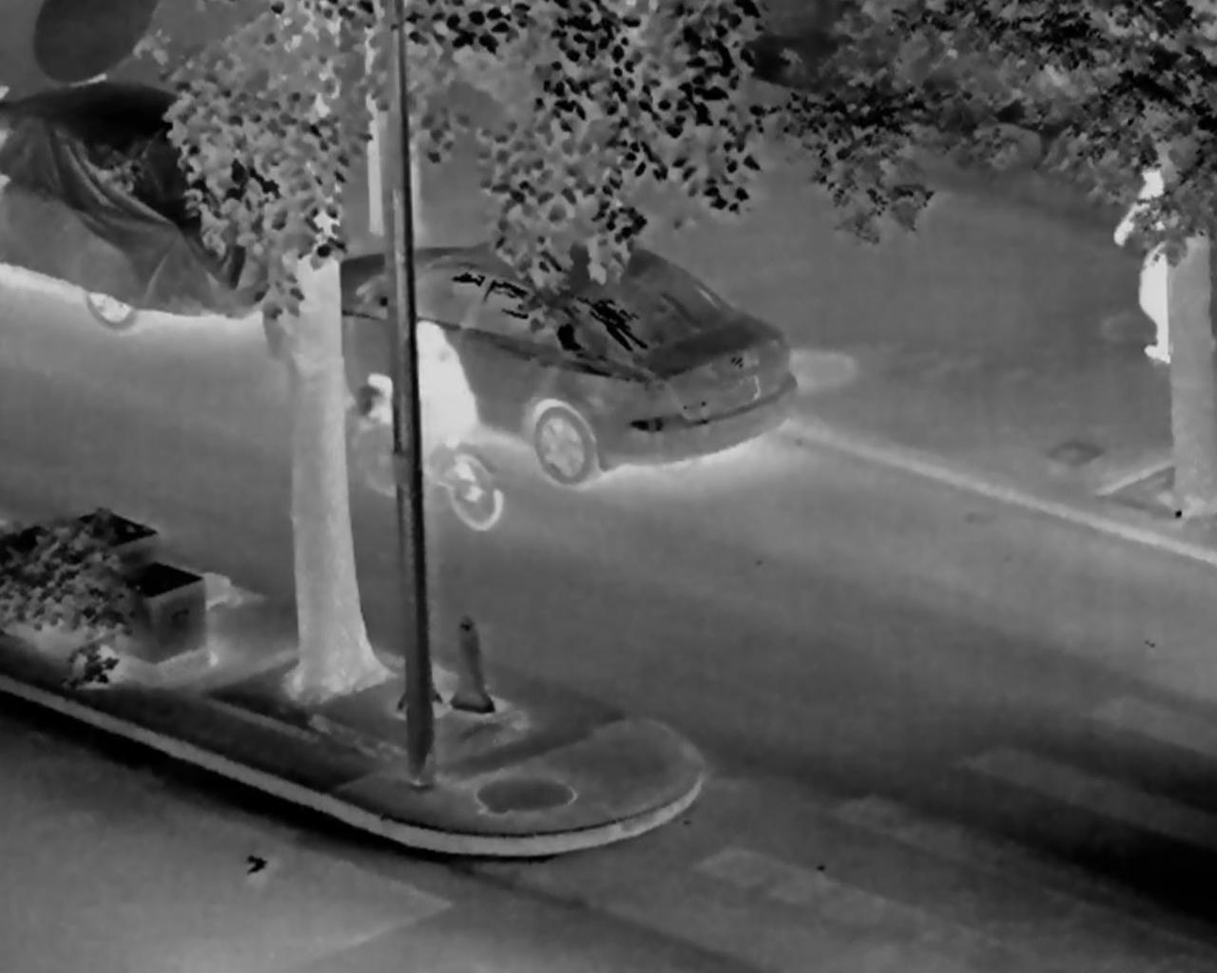person: (364, 322, 477, 470), (1113, 151, 1174, 366)
